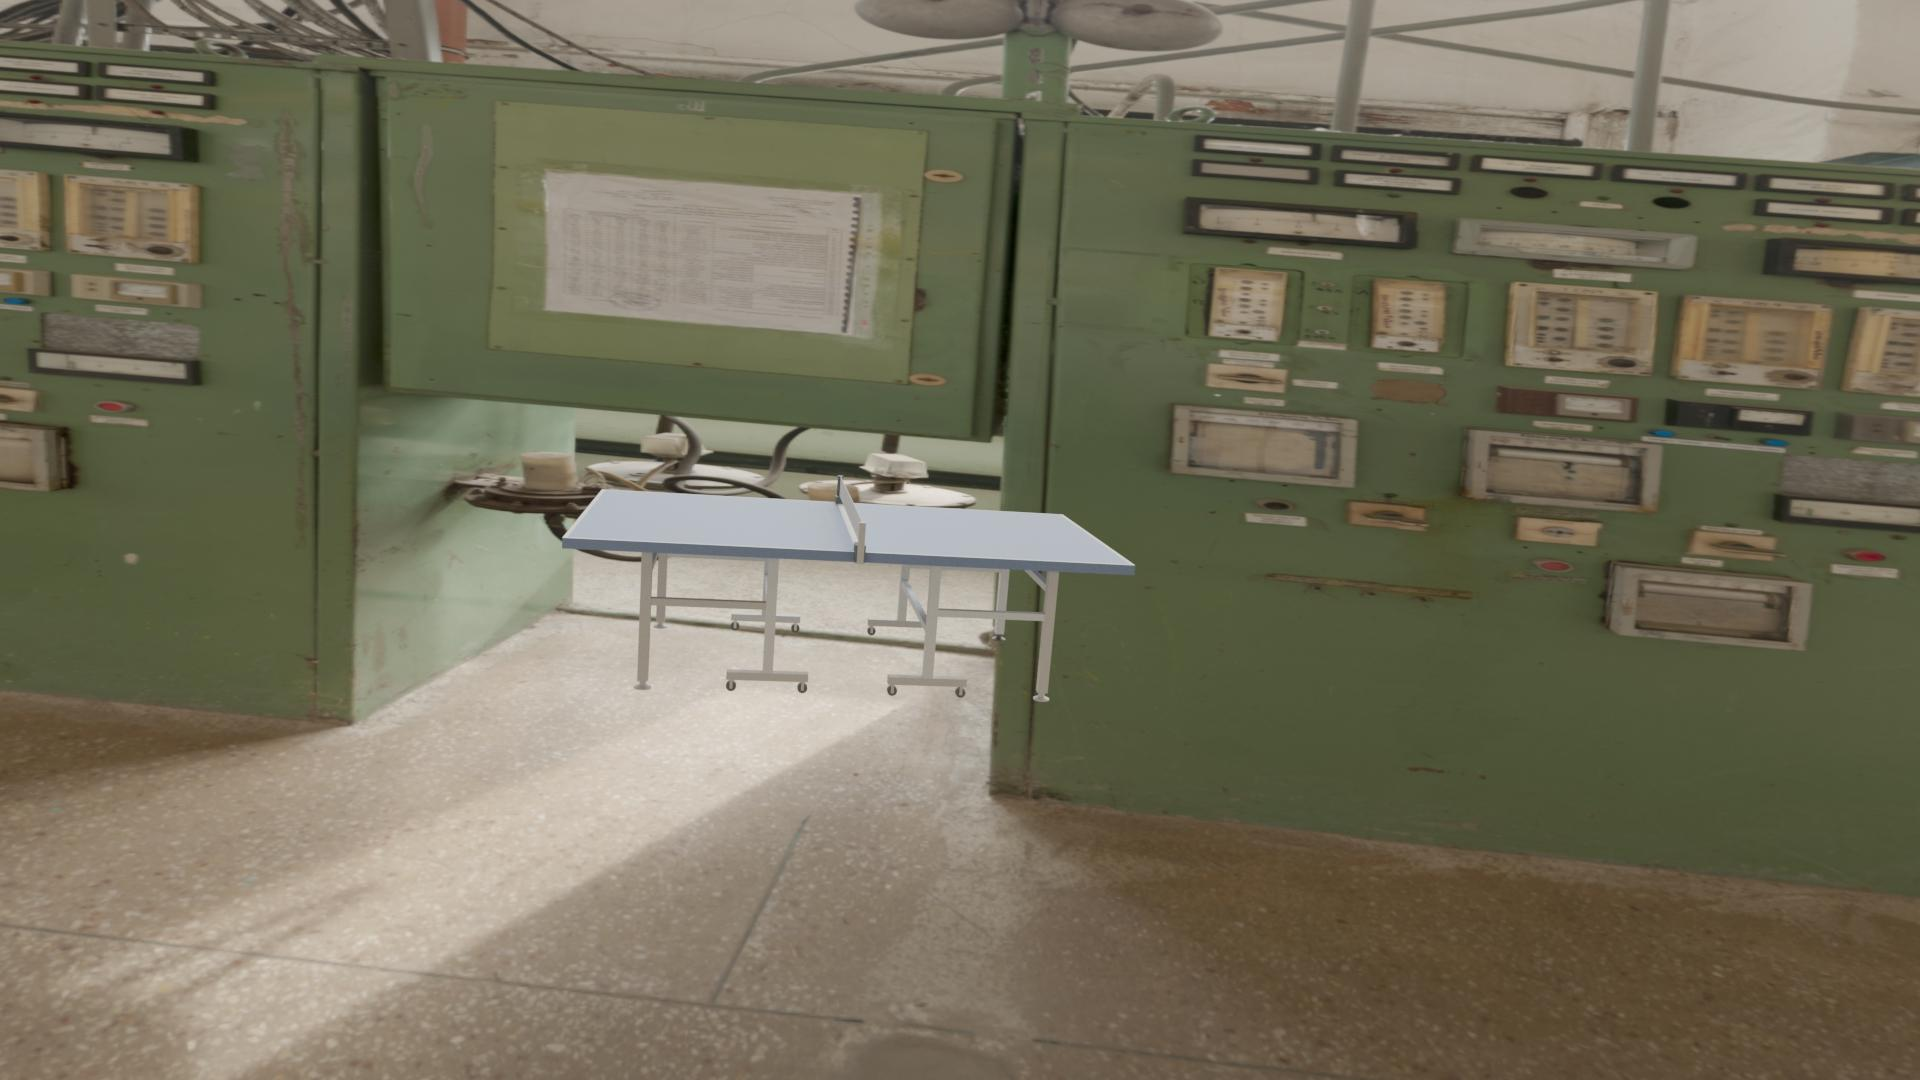table: (567, 491, 1130, 564)
